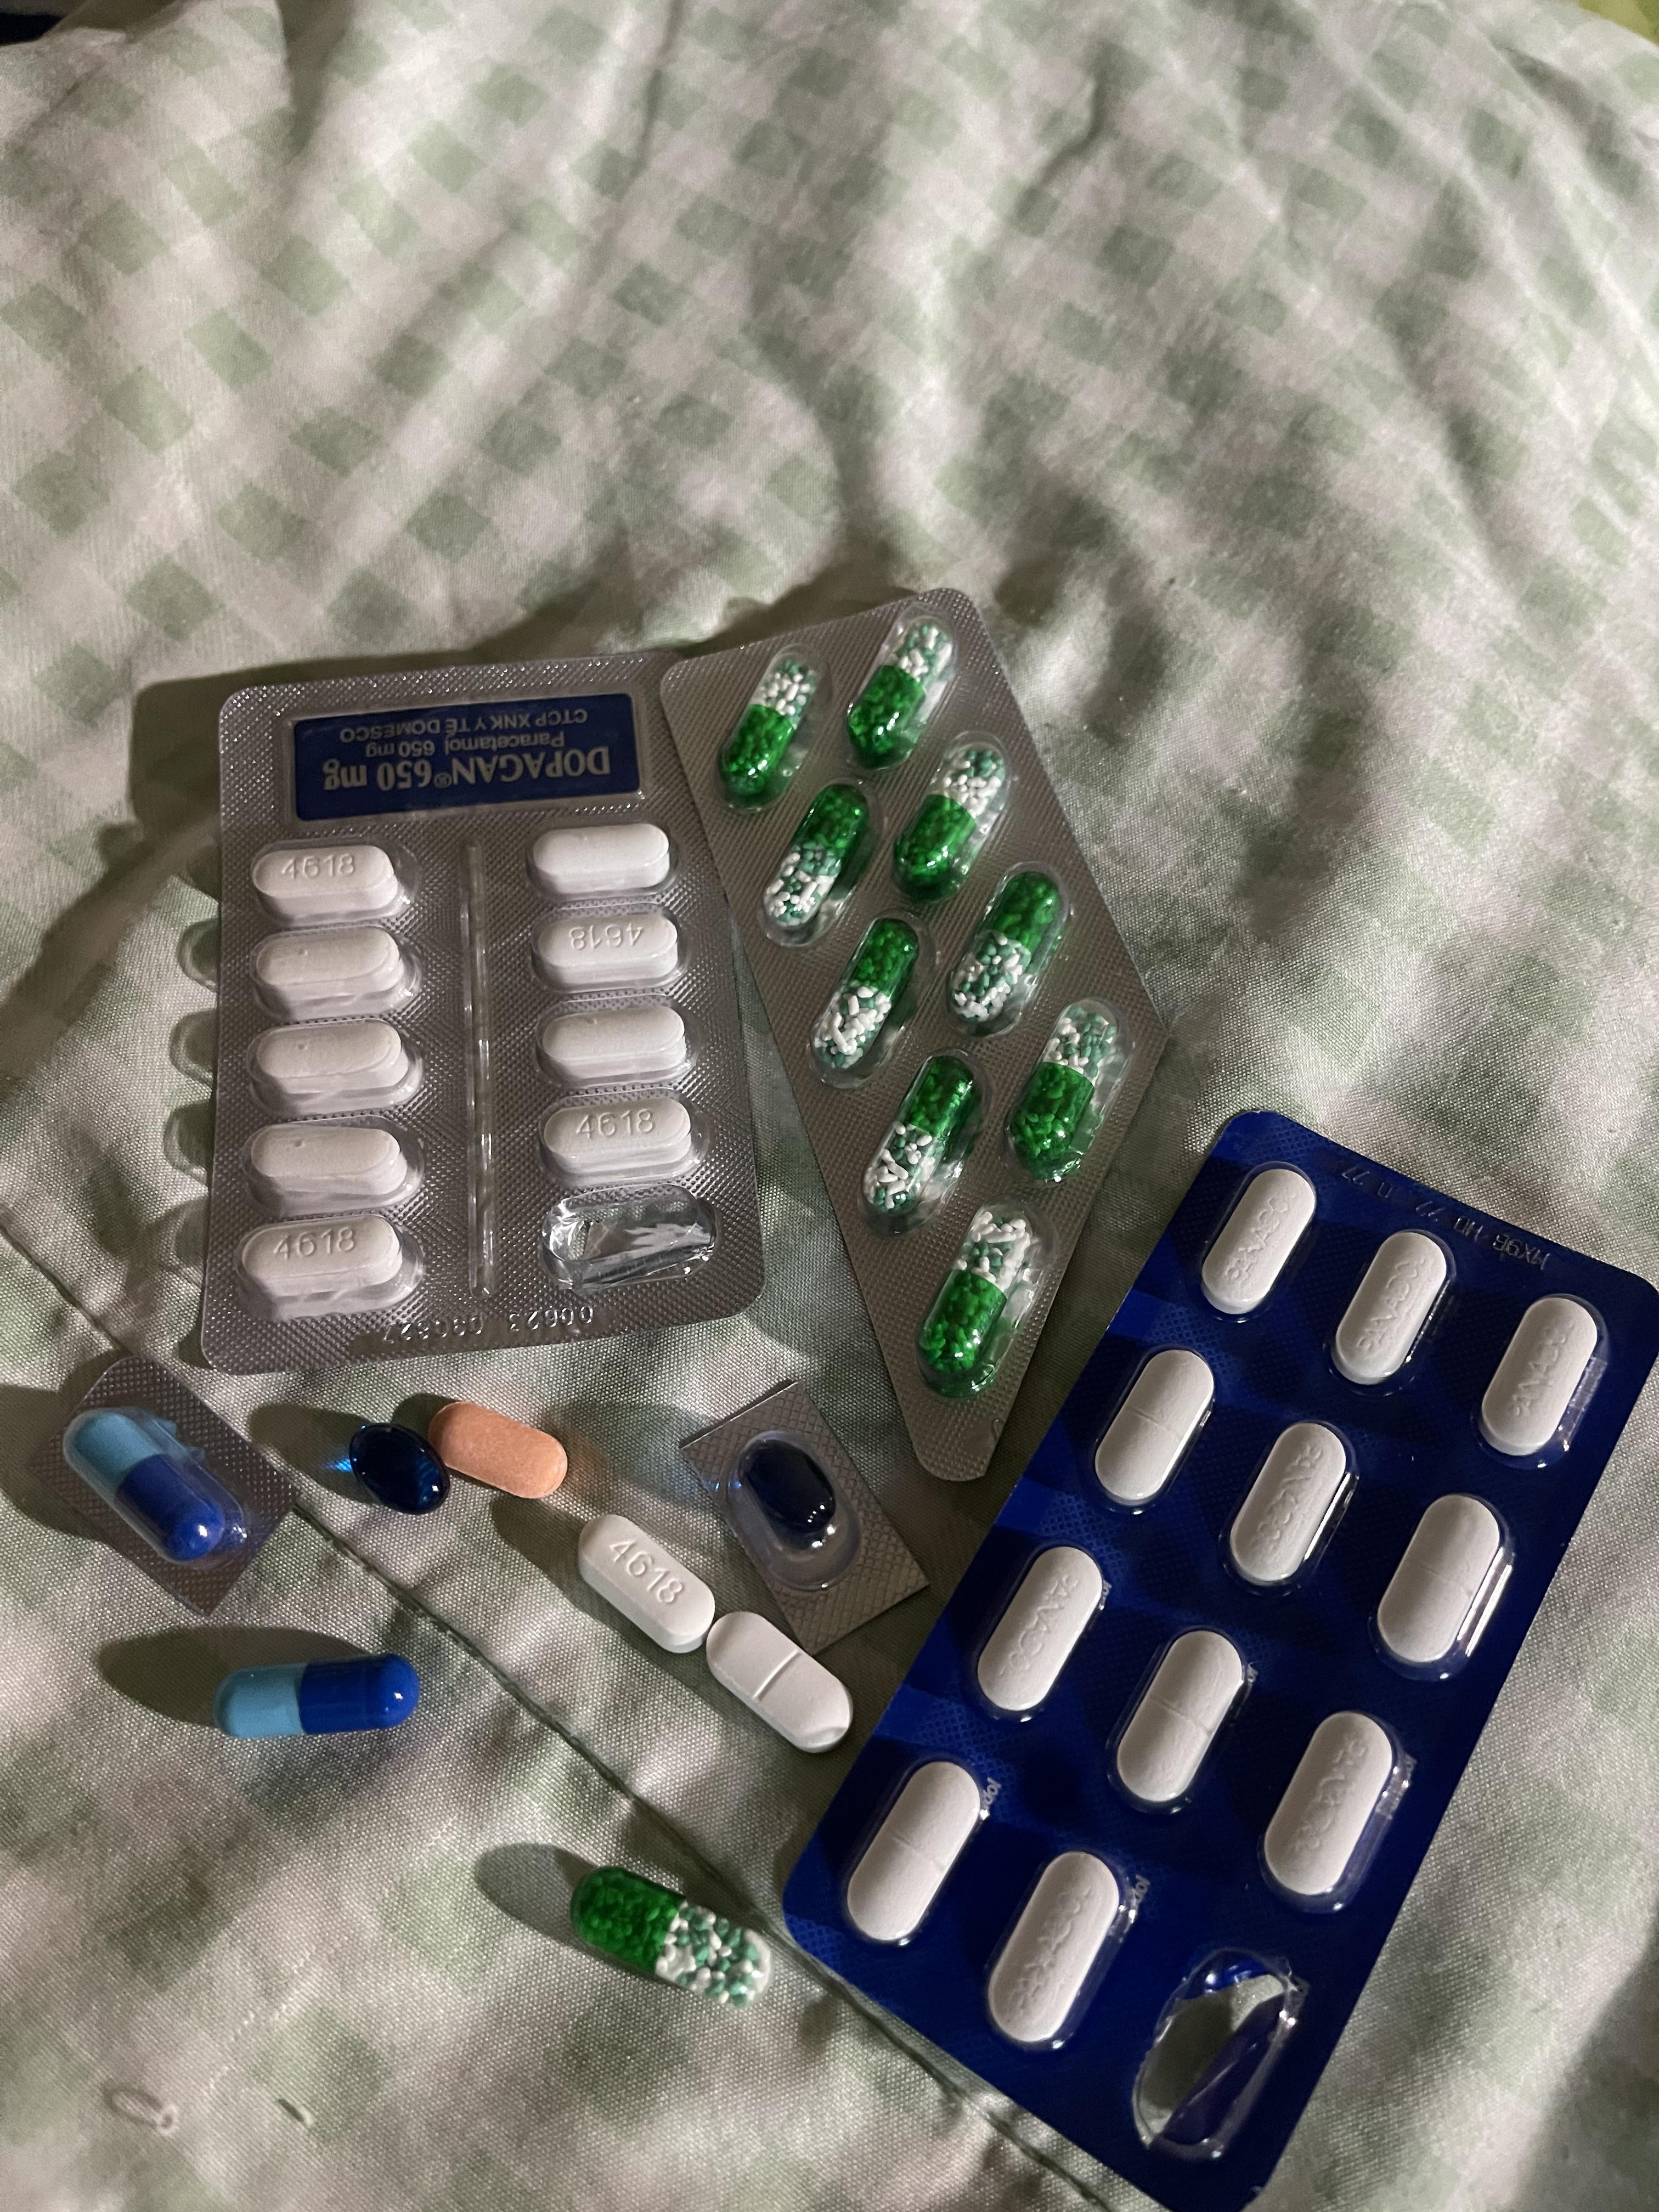Lincomyxin_500mg: (345, 1420, 451, 1515), (744, 1439, 836, 1536)
Loratadine_10mg: (430, 1399, 572, 1500)
Paracetamol_350mg: (1258, 1707, 1406, 1914), (985, 1844, 1129, 2050), (1107, 1627, 1249, 1820), (842, 1754, 981, 1949), (1371, 1489, 1511, 1679), (1220, 1418, 1354, 1594), (971, 1543, 1103, 1721), (1478, 1296, 1608, 1463), (1330, 1230, 1457, 1388), (706, 1611, 843, 1752), (1091, 1348, 1209, 1510), (1199, 1163, 1317, 1310)
Paracetamol_500mg: (577, 1514, 713, 1653), (239, 1214, 415, 1315), (253, 1017, 418, 1111), (254, 925, 415, 1019), (249, 1116, 418, 1204), (542, 1094, 694, 1186), (253, 840, 410, 923), (540, 1005, 690, 1090), (535, 911, 681, 993), (528, 822, 673, 899)
Paracetamol_650mg: (566, 1862, 770, 2005), (917, 1207, 1044, 1385), (1004, 1005, 1124, 1181), (861, 1052, 983, 1224), (946, 874, 1065, 1045), (892, 742, 1012, 904), (812, 920, 925, 1083), (845, 615, 957, 770), (762, 784, 871, 935), (716, 657, 814, 803)
pill: (68, 1406, 244, 1557), (213, 1655, 425, 1740)
